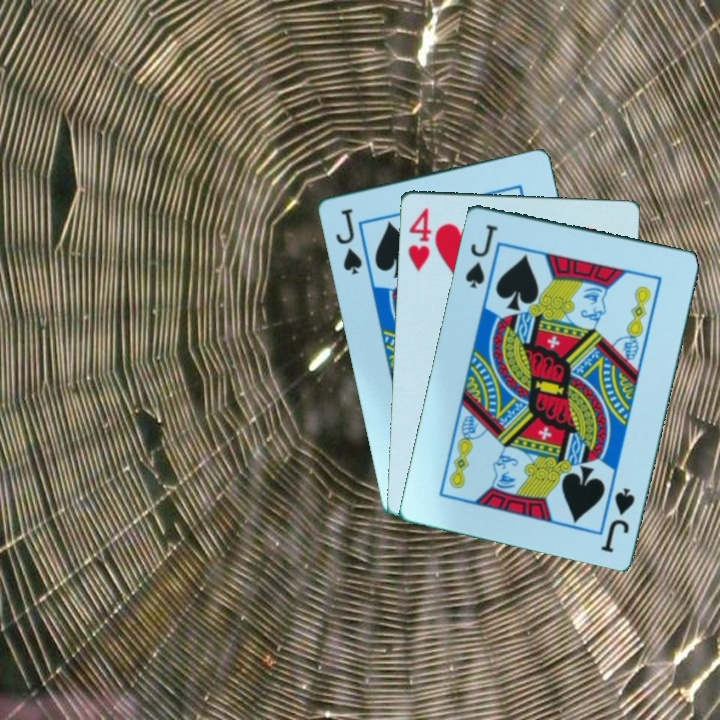4h: (404, 203, 434, 273)
Js: (598, 483, 638, 555), (461, 220, 500, 290), (331, 204, 365, 277)
